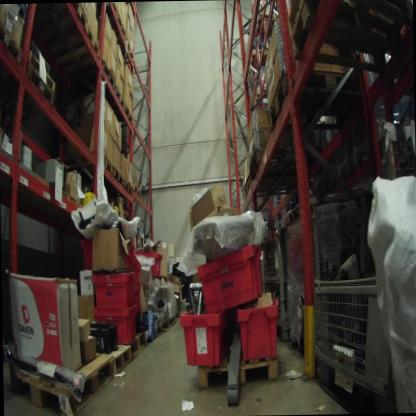pallet: (289, 0, 407, 76), (5, 350, 123, 410), (267, 76, 381, 133), (193, 337, 289, 396), (255, 139, 349, 190), (34, 27, 101, 65), (242, 178, 316, 212), (59, 146, 112, 178), (31, 5, 90, 33), (21, 53, 52, 104), (95, 345, 135, 380), (0, 18, 26, 71), (24, 35, 57, 73), (28, 48, 56, 90), (61, 62, 112, 85), (135, 320, 162, 352), (101, 14, 131, 41), (123, 327, 145, 362), (107, 34, 135, 60), (117, 98, 135, 127), (155, 314, 177, 335), (109, 163, 124, 190), (112, 80, 123, 107), (122, 177, 132, 198), (129, 182, 142, 197)
small_load_carrier: (196, 237, 266, 319), (171, 298, 226, 370), (234, 288, 280, 363), (88, 297, 140, 344), (87, 267, 140, 311), (128, 241, 163, 289)
stillage: (305, 175, 415, 400), (274, 186, 381, 358), (254, 207, 286, 318)
